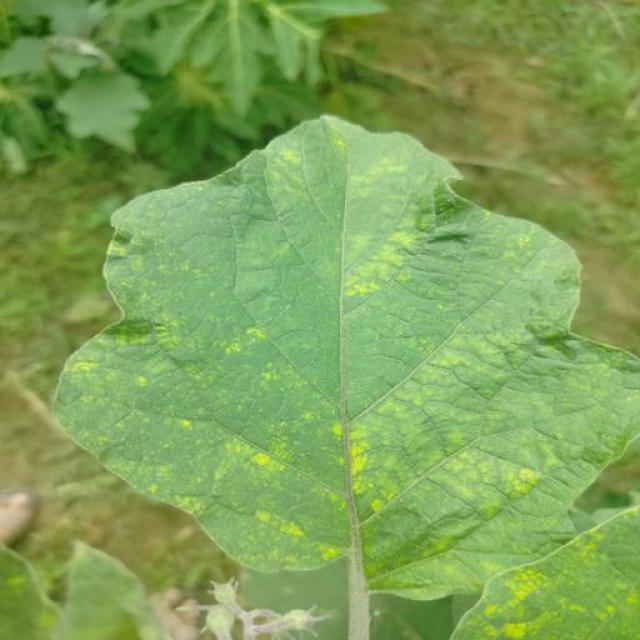leaf_spot: (122, 322, 194, 358), (494, 575, 564, 612), (330, 420, 368, 485), (235, 444, 297, 479), (570, 594, 639, 624), (219, 325, 279, 358), (482, 606, 535, 640), (337, 268, 392, 300), (118, 244, 164, 282), (374, 227, 420, 265), (322, 488, 365, 522), (565, 547, 610, 577), (443, 440, 485, 472), (456, 560, 502, 586), (507, 458, 533, 502), (366, 159, 414, 182), (416, 533, 454, 558), (508, 230, 536, 262), (275, 153, 315, 174), (479, 491, 505, 521), (366, 484, 389, 516), (364, 534, 379, 582), (270, 239, 300, 260), (129, 376, 167, 392), (174, 418, 202, 438), (278, 526, 312, 542), (318, 542, 348, 560), (144, 476, 170, 496), (176, 494, 207, 509), (250, 509, 285, 522), (273, 550, 302, 565), (76, 357, 102, 373), (298, 408, 320, 426), (257, 362, 281, 378), (334, 128, 349, 153)
